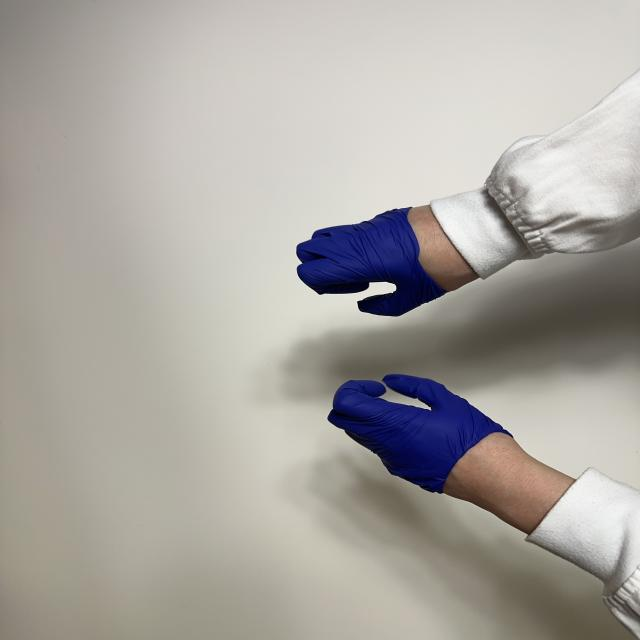glove_not_fitted: (330, 372, 580, 535), (293, 202, 485, 319)
